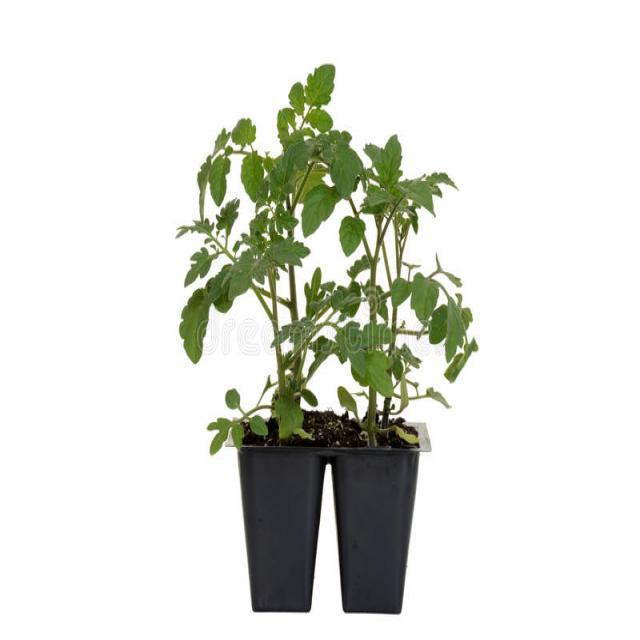tomato: (178, 64, 363, 453), (302, 135, 478, 446)
